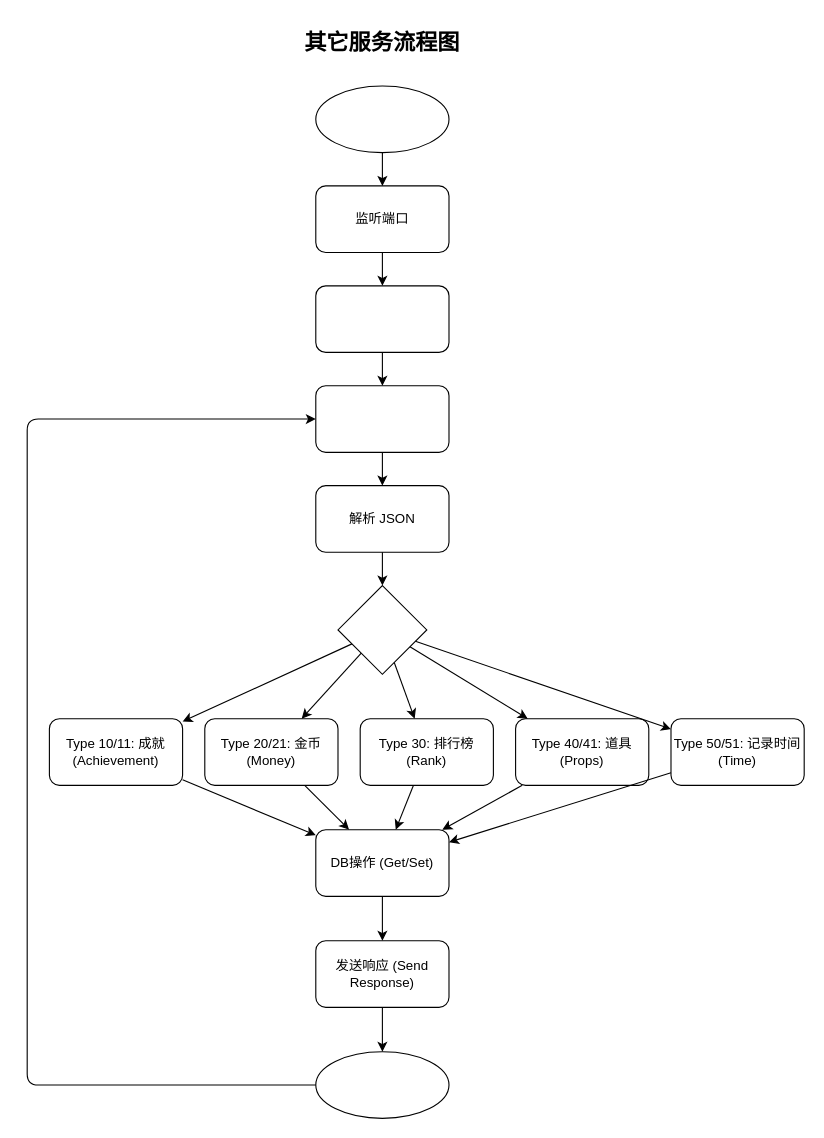
This 824x1138 diagram has some shape labels left out. Here are the shapes that lost their labels. From the top down, the box of each, then its label:
(315, 85, 449, 153): 启动服务
(315, 285, 449, 352): 接受连接 (Accept)
(315, 385, 449, 452): 接收数据 (Receive)
(337, 584, 427, 674): 请求类型 (Type)
(315, 1051, 449, 1118): 继续接收 (Loop)
